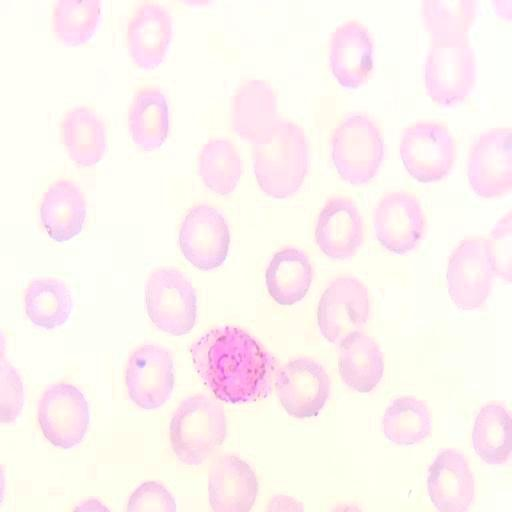Infected: (187, 323, 287, 404)
Uninfected: (250, 119, 308, 198), (331, 112, 384, 187), (170, 392, 222, 468), (143, 268, 198, 338), (36, 379, 91, 449), (426, 442, 478, 512), (400, 119, 456, 184), (319, 272, 367, 346), (123, 343, 176, 410), (423, 42, 476, 109), (266, 243, 319, 308), (464, 123, 512, 194), (279, 355, 332, 419), (371, 189, 424, 253), (179, 205, 228, 272), (447, 238, 495, 306), (327, 18, 375, 86), (37, 176, 87, 241), (230, 79, 280, 144), (126, 2, 171, 71), (61, 106, 109, 168), (337, 332, 384, 394), (314, 195, 361, 257), (207, 452, 254, 512), (129, 86, 172, 150), (21, 272, 71, 326), (471, 402, 512, 464), (196, 138, 240, 195), (381, 398, 431, 447)
